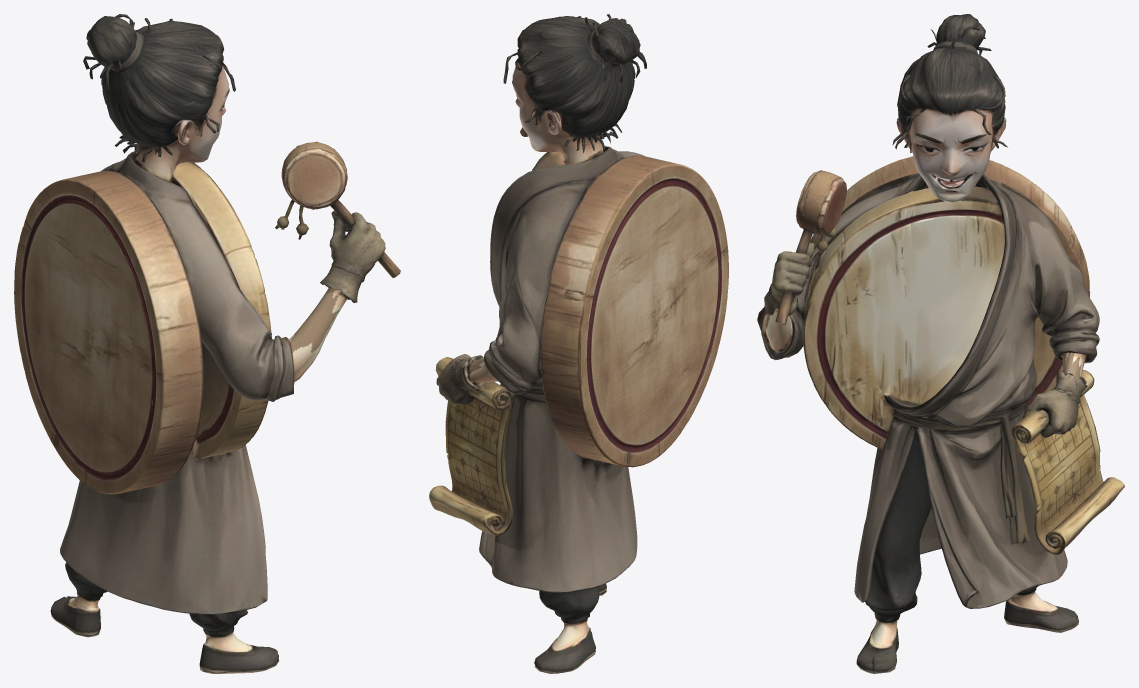
The model's file is p_b1p_jiabanbu.glb.
The picture shows the model from 3 angles, left to right: view 1: azimuth 30°, elevation 25°; view 2: azimuth 150°, elevation 25°; view 3: azimuth 270°, elevation 25°; orthographic projection. The views are drawn at different scales.
Visible parts, largest first — view 1: tripo_node_b78ba7b6-44e0-4734-84ea-b511d5b55579; view 2: tripo_node_b78ba7b6-44e0-4734-84ea-b511d5b55579; view 3: tripo_node_b78ba7b6-44e0-4734-84ea-b511d5b55579.
Part boxes in pixels (x1=…): tripo_node_b78ba7b6-44e0-4734-84ea-b511d5b55579: x1=14, y1=14, x2=400, y2=673; tripo_node_b78ba7b6-44e0-4734-84ea-b511d5b55579: x1=429, y1=14, x2=728, y2=673; tripo_node_b78ba7b6-44e0-4734-84ea-b511d5b55579: x1=757, y1=14, x2=1124, y2=673.
Bounding box in the file's own units: 0.3687 × 0.9793 × 0.5404.
1 material, 1 textured.
